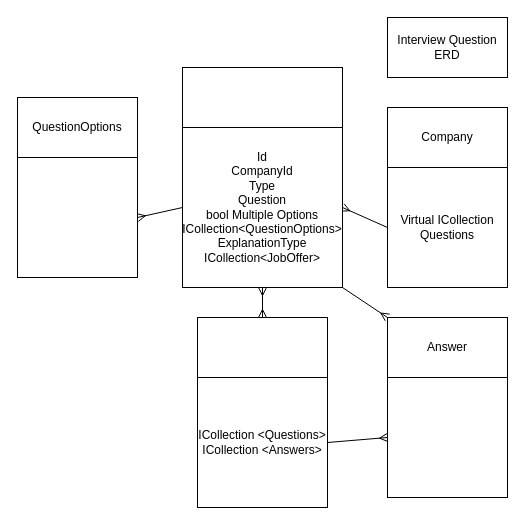
Image size: 525x525. Some labels were removed from this diagram. The shapes that lost their labels are listed below. From the top down, each one's centre as x and y in pixels, then its label:
At (262,97): "Question".
At (77,217): "Id QuestionId OptionShort? OptionText".
At (262,347): "JobOffer".
At (447,437): "Id QuestionId JobOfferId UserId answer Explanation".
